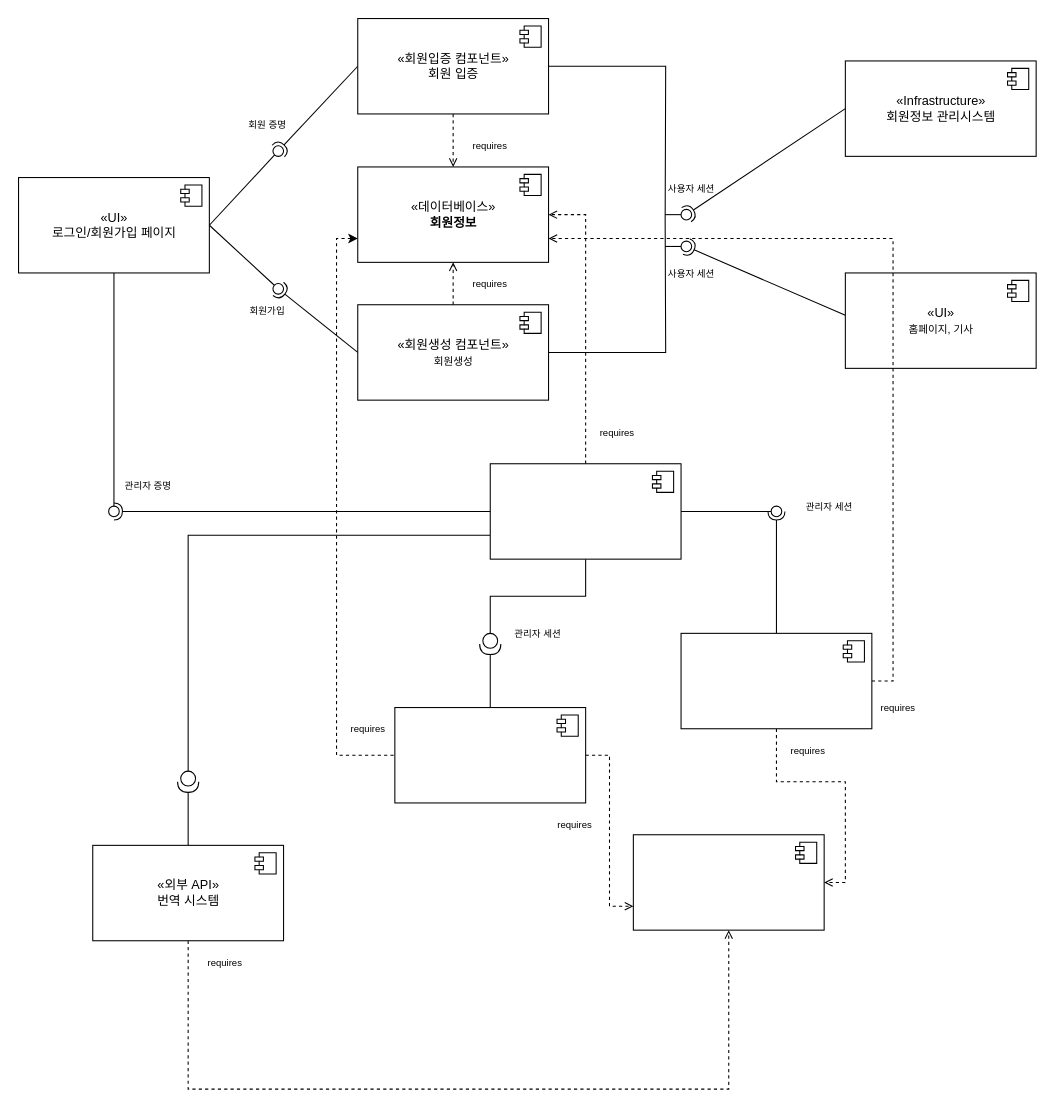
Image size: 1055x1116. Some labels were removed from this diagram. Here are the shapes that lost their labels. From the top down, the centre of each, then its label:
At point (585, 511): "«관리자 입증 컴포넌트» 관리자 입증".
At point (776, 680): "«Infrastructure» 기사 관리 시스템".
At point (490, 754): "«Infrastructure» 이메일링 시스템".
At point (728, 882): "«데이터베이스» 컨텐츠 테이블".
